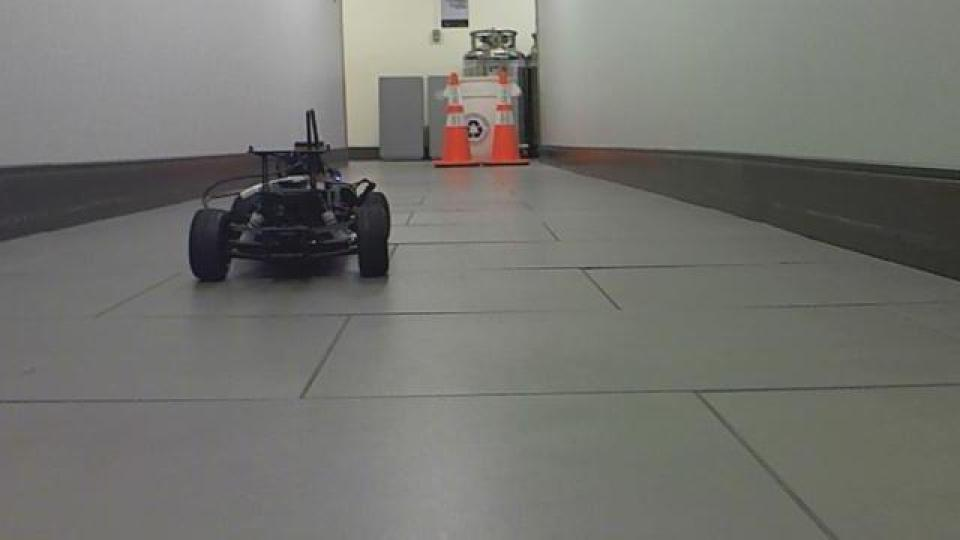car: (185, 107, 393, 285)
